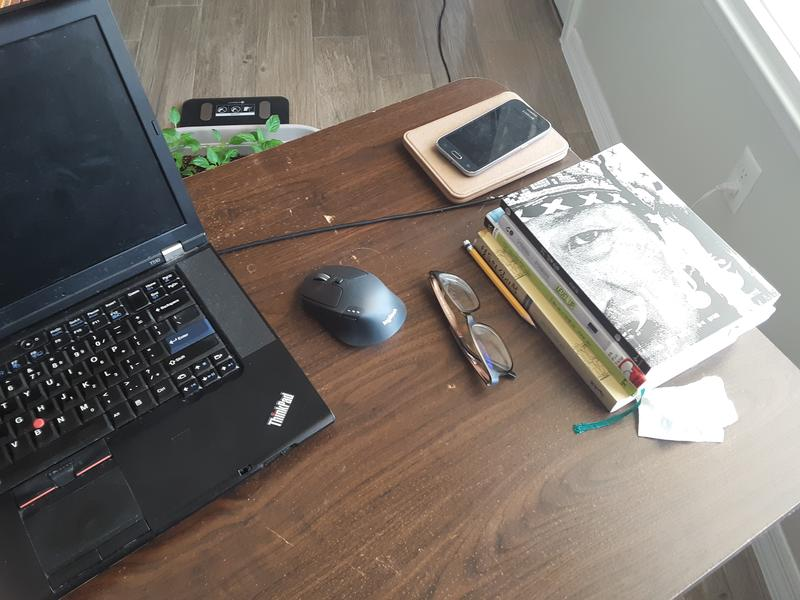glasses: (426, 267, 518, 389)
